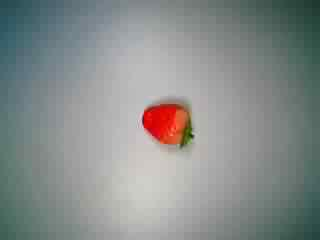strawberry: (131, 96, 205, 151)
